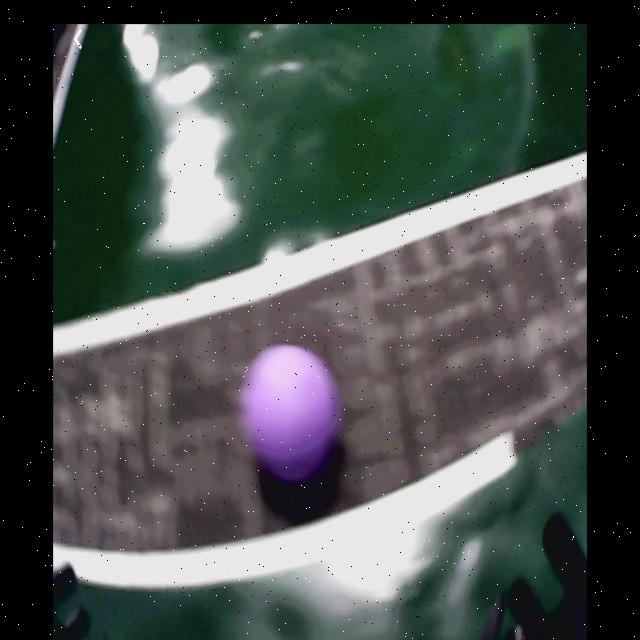ball: (241, 345, 340, 476)
